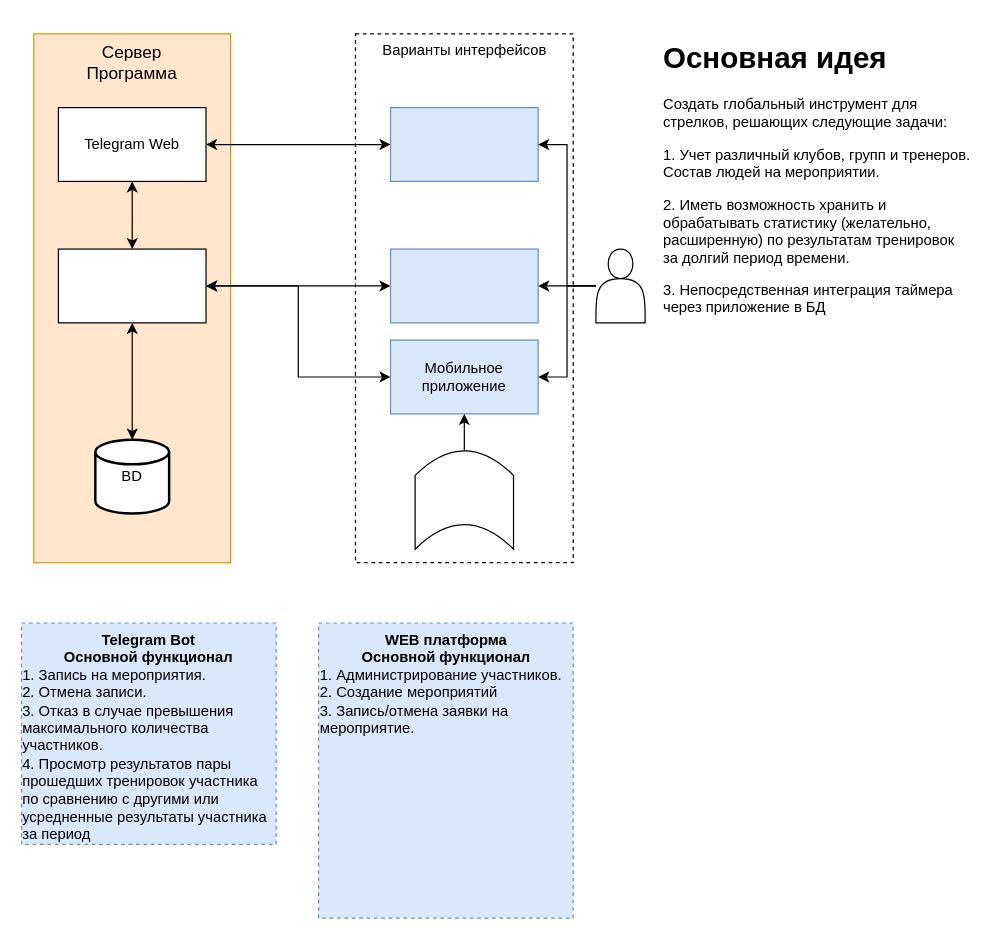
Image size: 999x940. Some labels were removed from this diagram. The centre of each missing label's shape, as x and y in pixels:
API: point 131,285
Telegram Bot: point 463,143
Web платформа: point 463,285
Таймер: point 464,499
